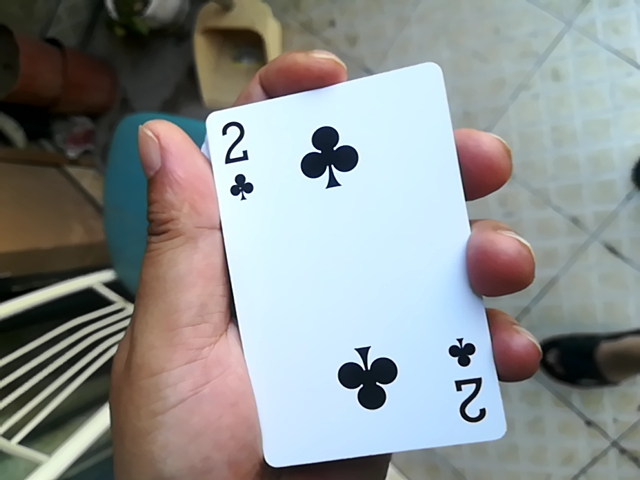mh 2: (179, 59, 473, 463)
